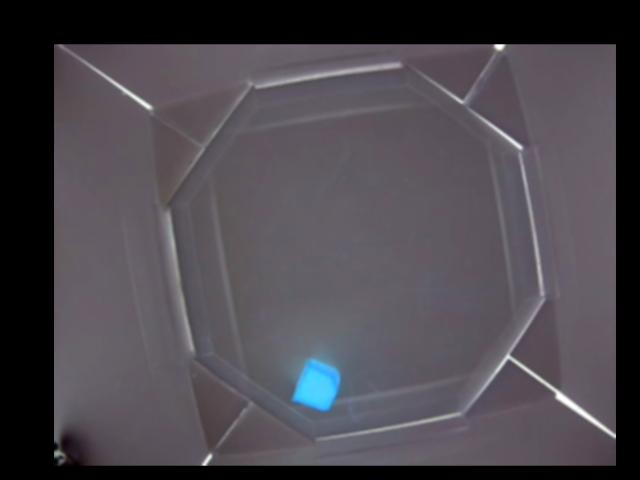Carrot: (291, 357, 341, 411)
